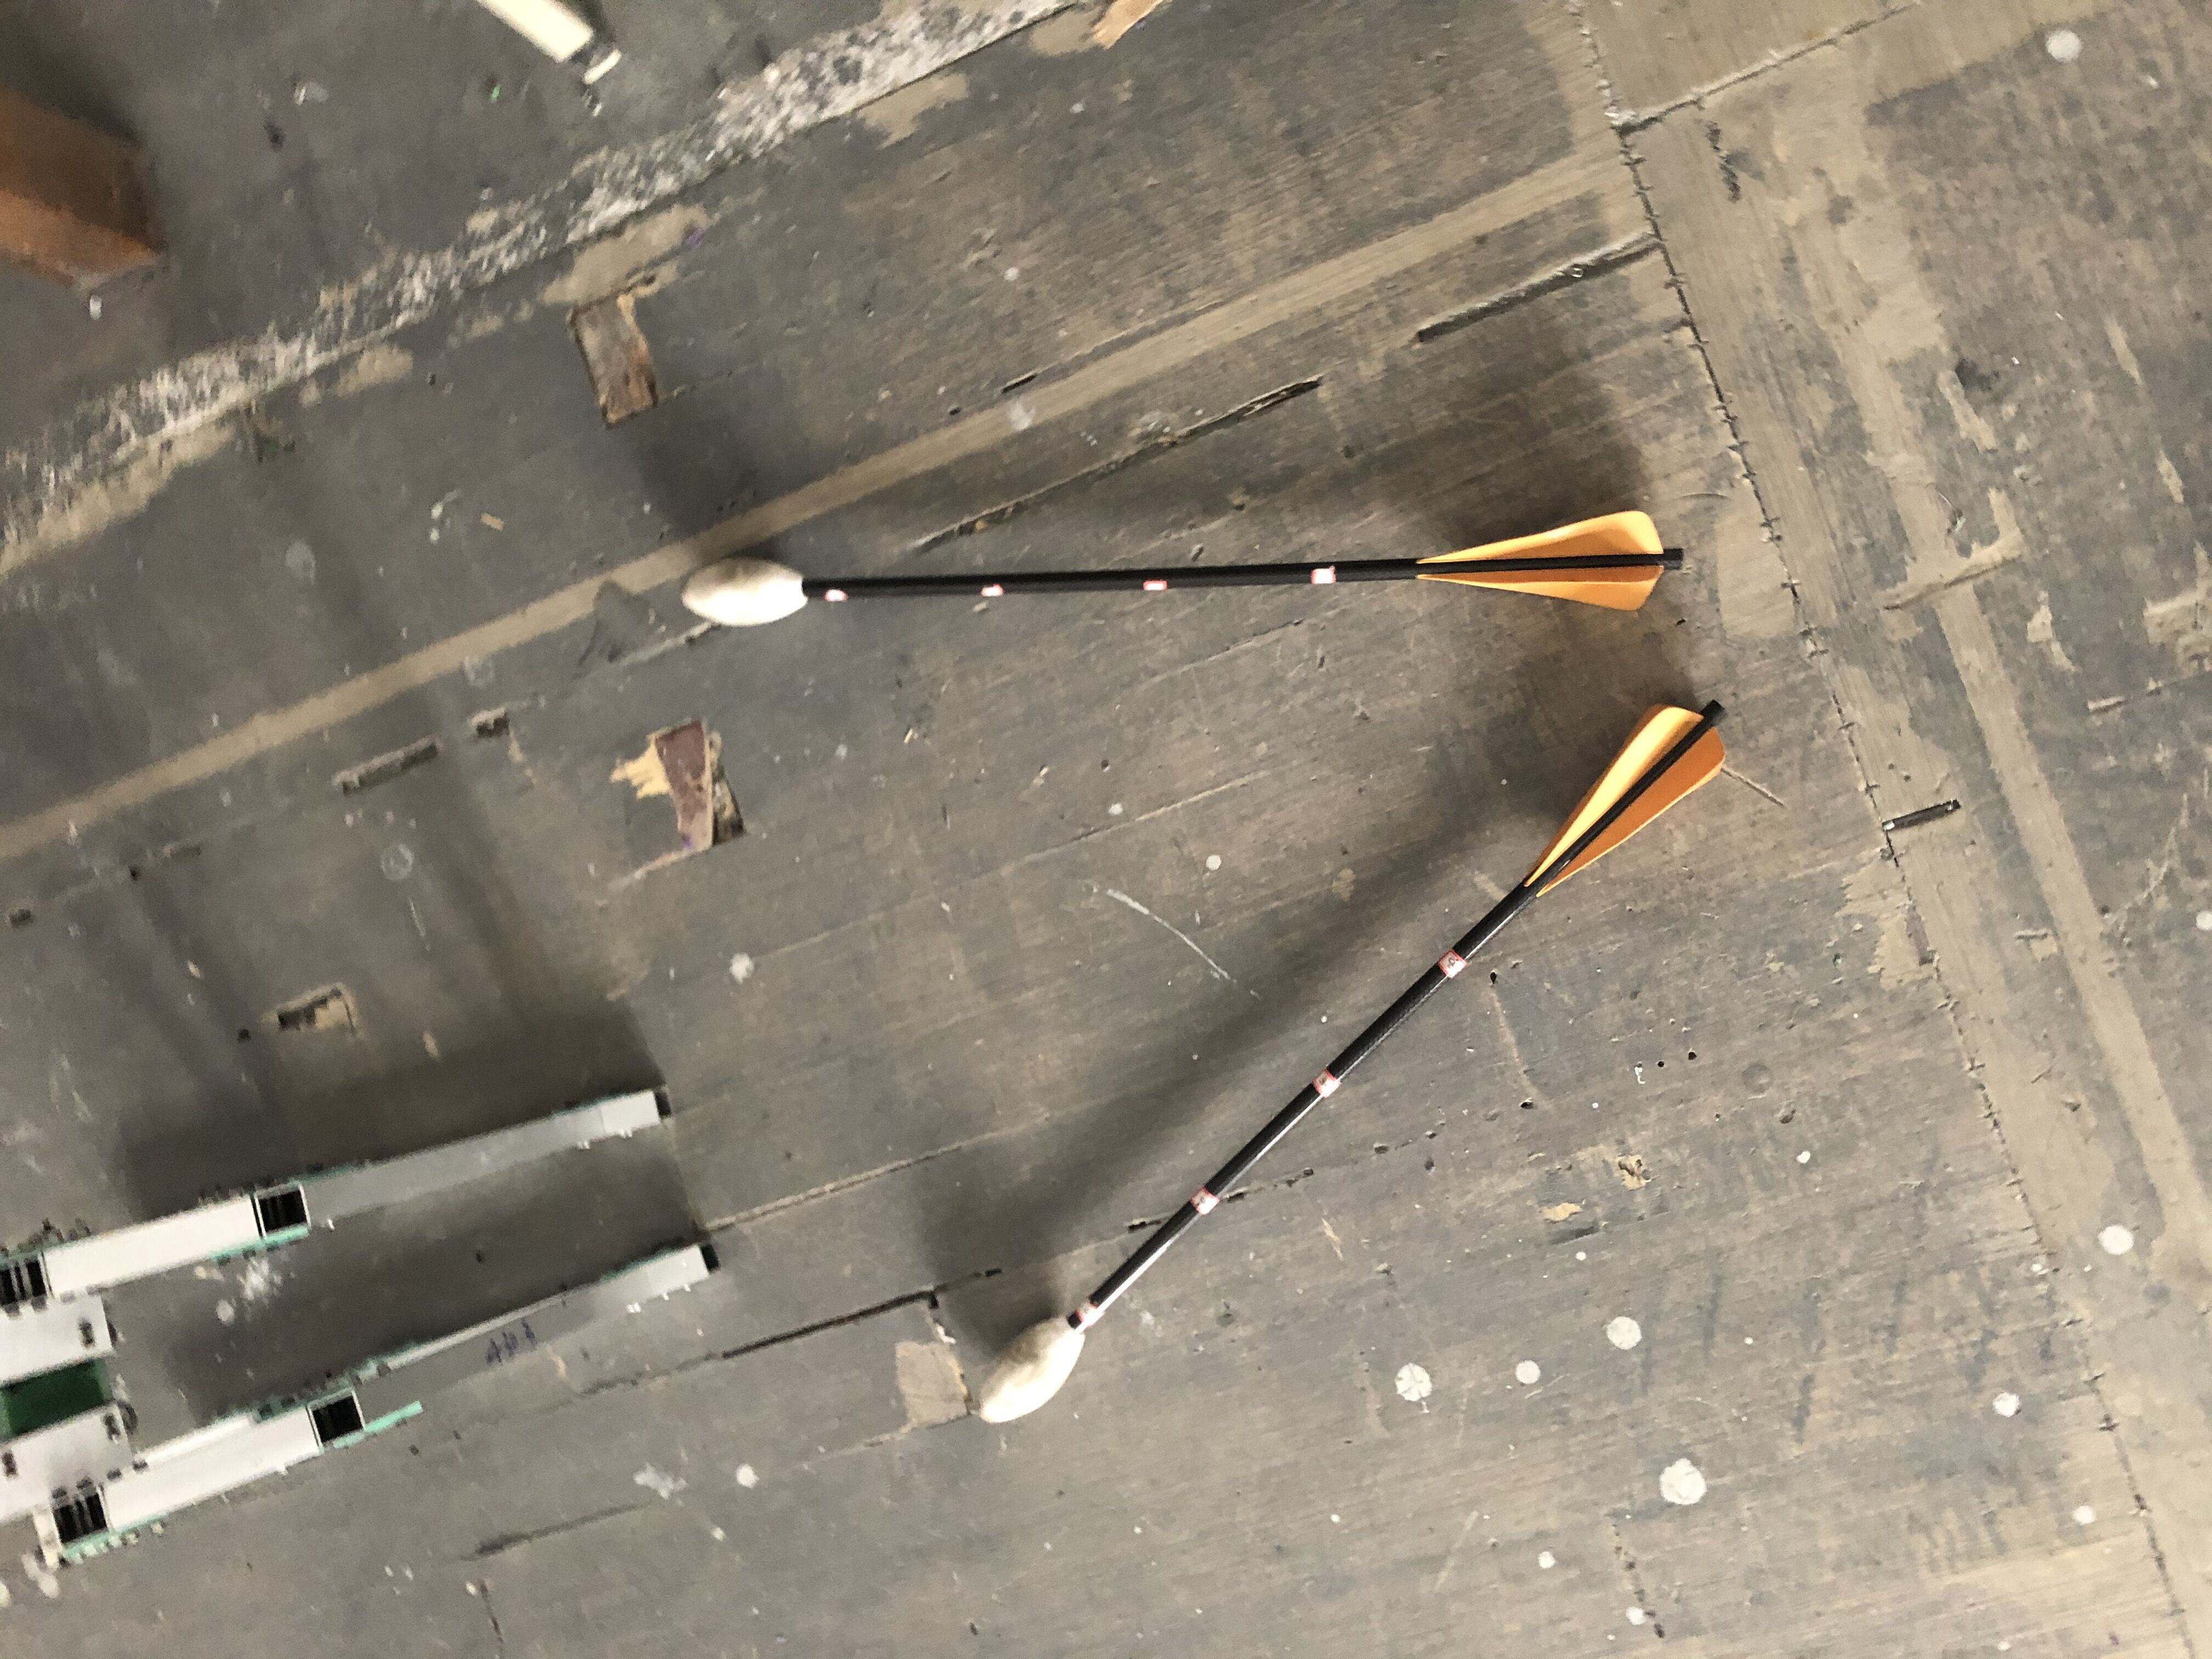arrow: (975, 702, 1728, 1425), (681, 509, 1688, 627)
arrowFront: (975, 1310, 1085, 1427), (679, 554, 819, 626)
